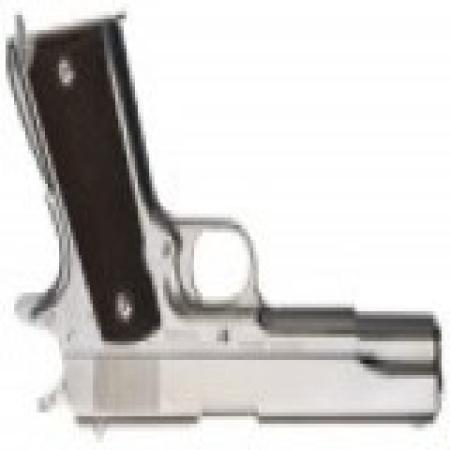Pistol: (9, 11, 433, 446)
